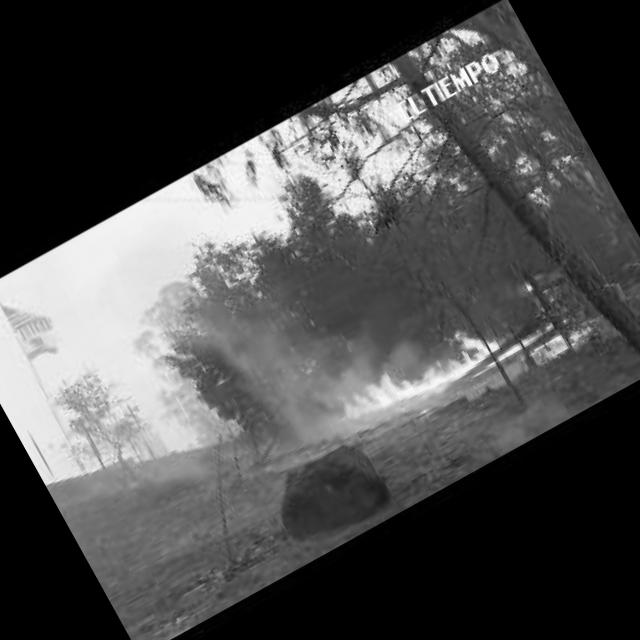fire: (314, 293, 534, 449), (530, 322, 592, 366)
